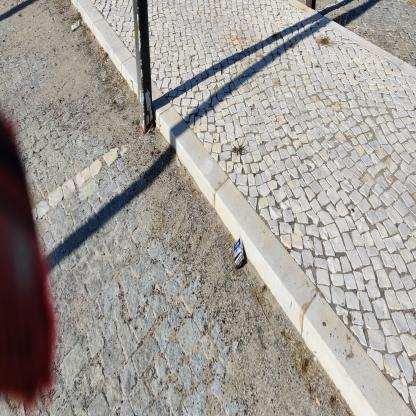karton: (235, 239, 245, 270), (72, 21, 81, 33)
